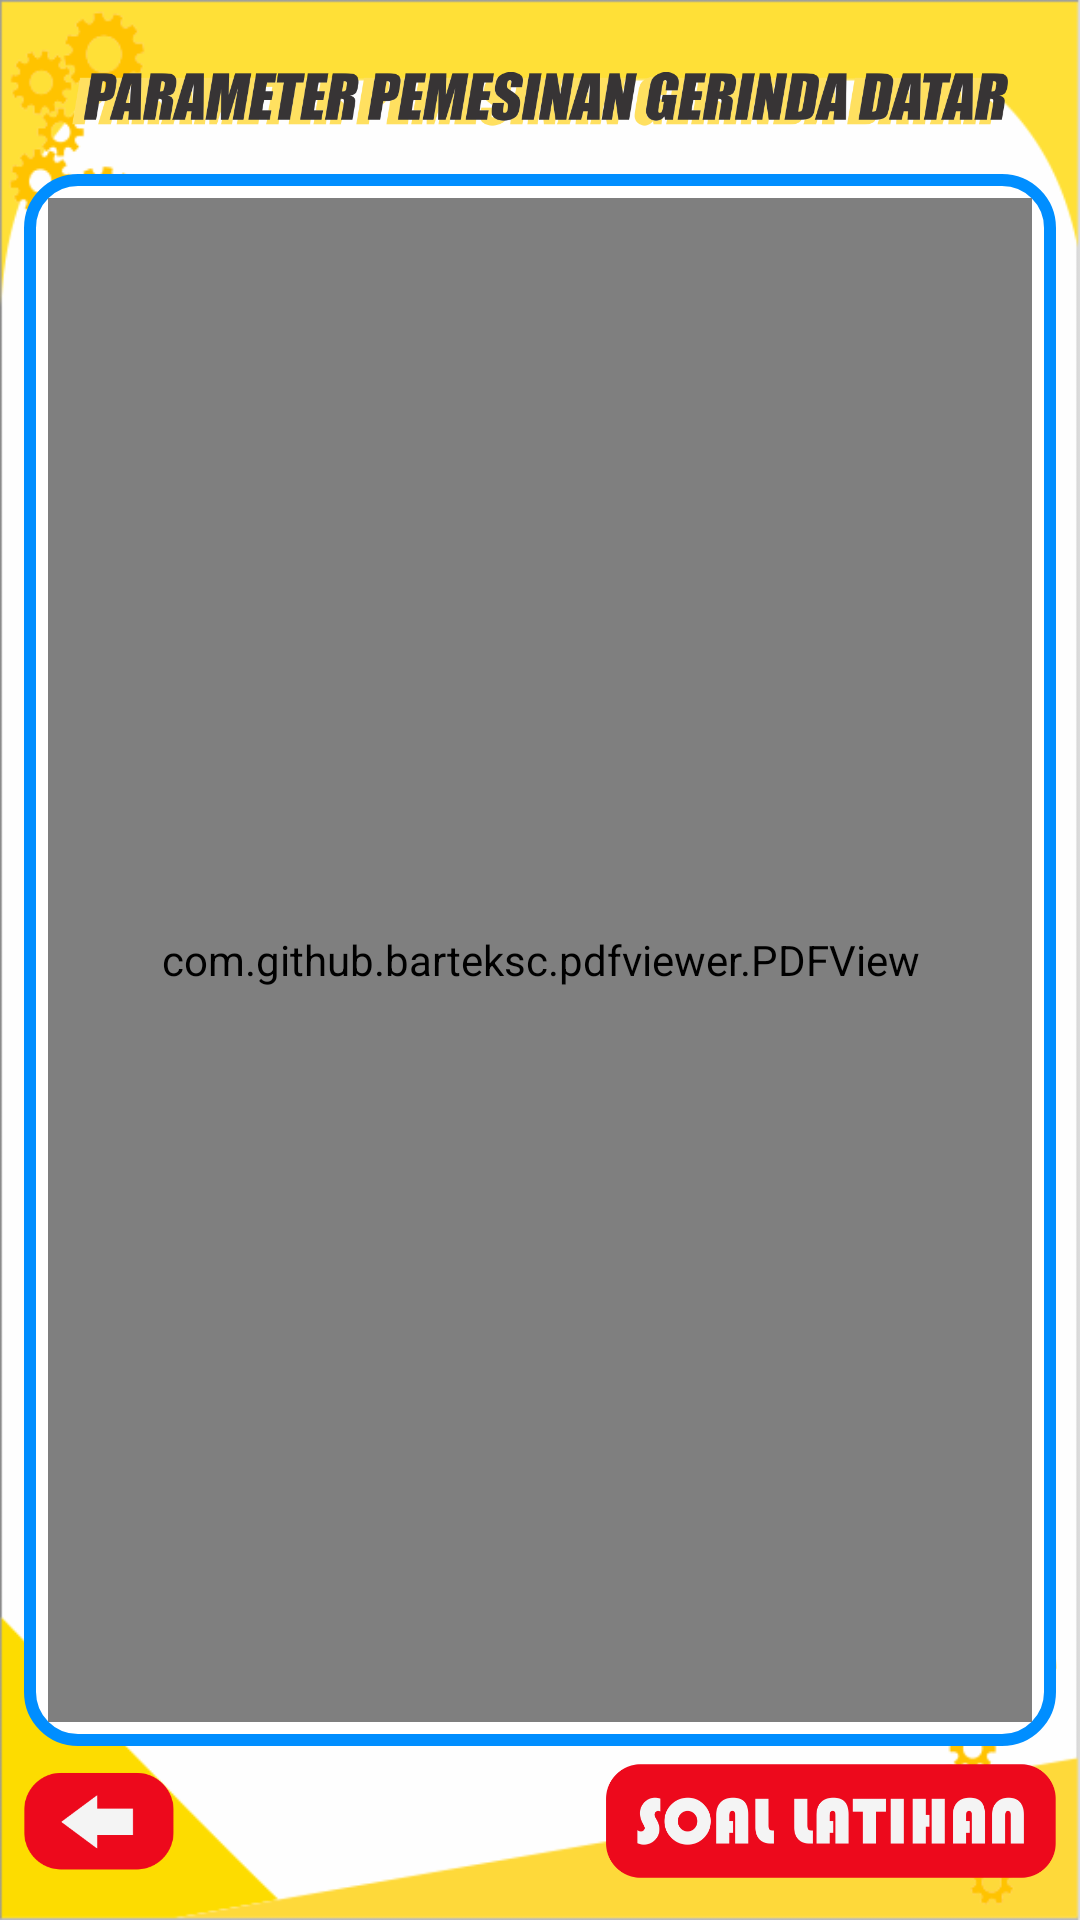

Screen size 1080×1920. Icon name, then its box in pixels as (x1, y1, x2, y2):
back: (24, 1746, 174, 1870)
